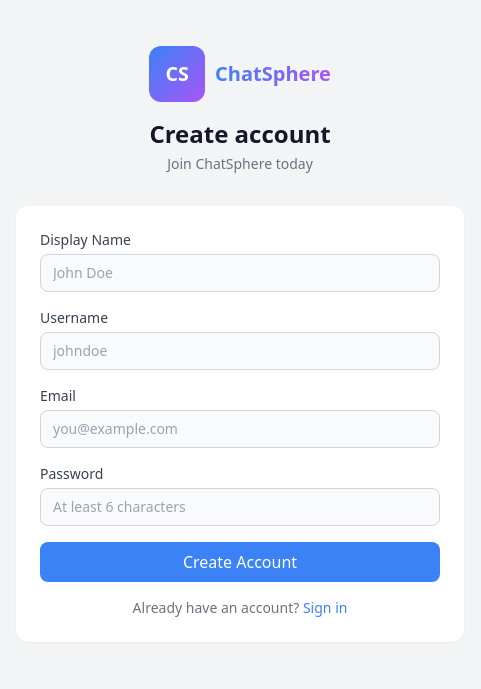
Test: Register Page › should show error on failed registration
Type "Test" into the field with placeholder "John Doe" at [240, 273], box [40, 254, 440, 292]
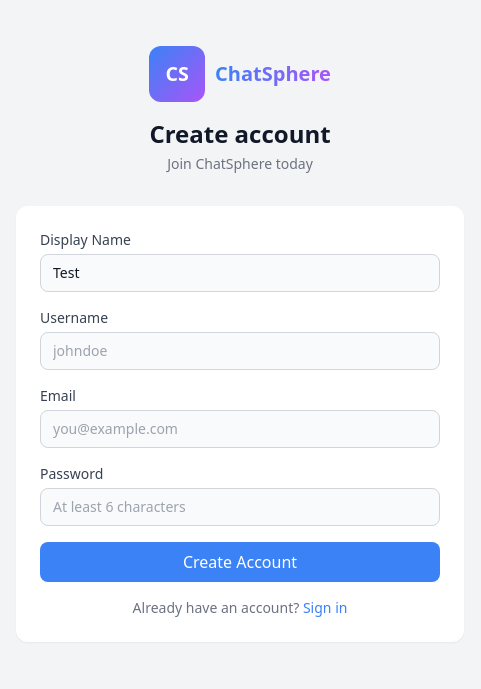
Type "testuser" into the field with placeholder "johndoe" at [240, 351], box [40, 332, 440, 370]
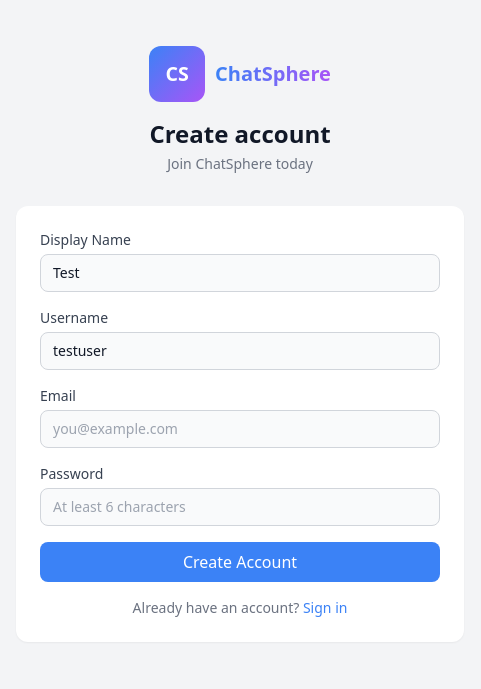
Type "test@test.com" into the field with placeholder "you@example.com" at [240, 429], box [40, 410, 440, 448]
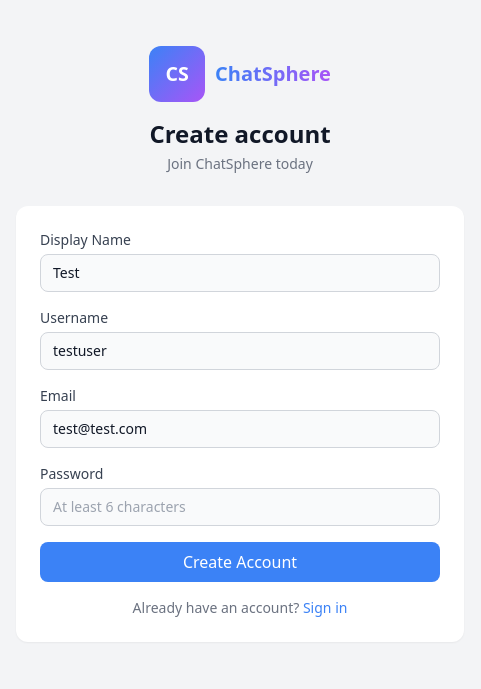
Type "password123" into the password field with placeholder "At least 6 characters" at [240, 507], box [40, 488, 440, 526]
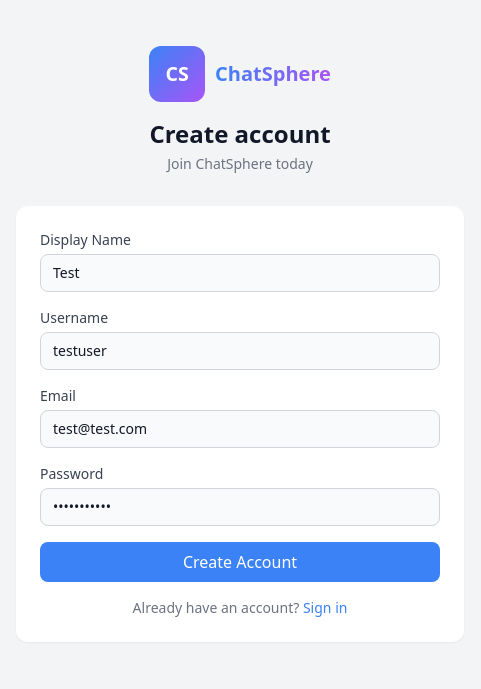
Click the button "Create Account" at [240, 562], box [40, 542, 440, 582]
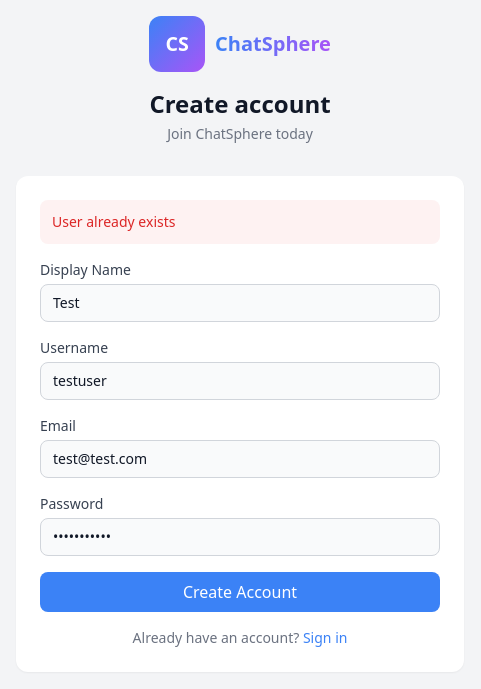
Expected: the text "User already exists" is shown, [40, 200, 440, 244]
